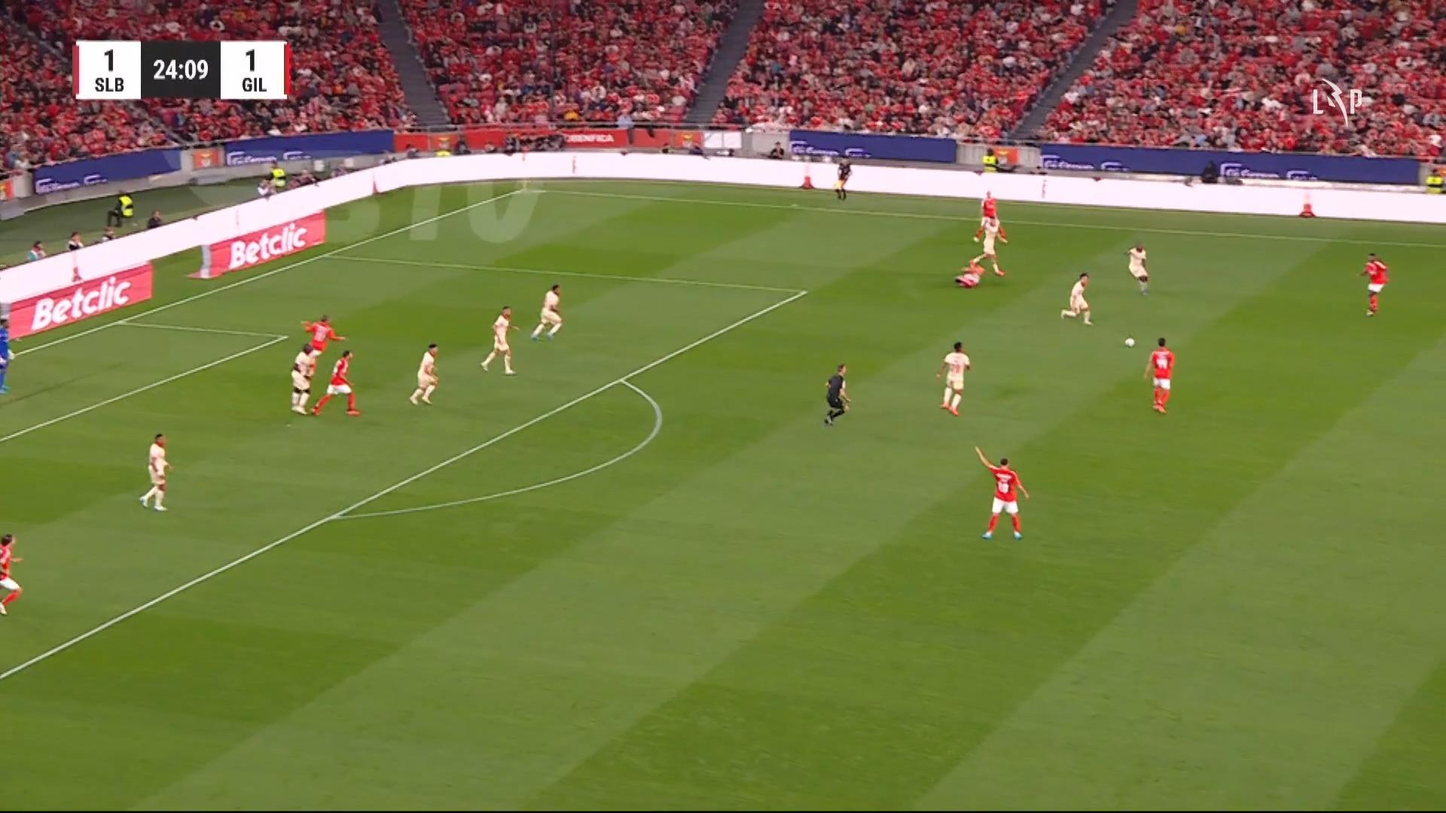ball: (1124, 337, 1134, 347)
goalkeeper: (0, 315, 17, 394)
player: (974, 444, 1030, 540), (310, 349, 361, 417), (479, 306, 520, 375), (300, 314, 346, 374), (935, 341, 971, 416), (138, 432, 172, 511), (1144, 336, 1175, 414), (971, 217, 1008, 276), (289, 343, 317, 416), (408, 343, 440, 406), (529, 283, 563, 341), (1359, 251, 1389, 316), (0, 532, 23, 616), (1060, 272, 1093, 326), (974, 190, 1001, 243), (1126, 241, 1150, 295), (953, 259, 984, 288)
referee: (822, 363, 851, 426), (833, 157, 852, 200)
